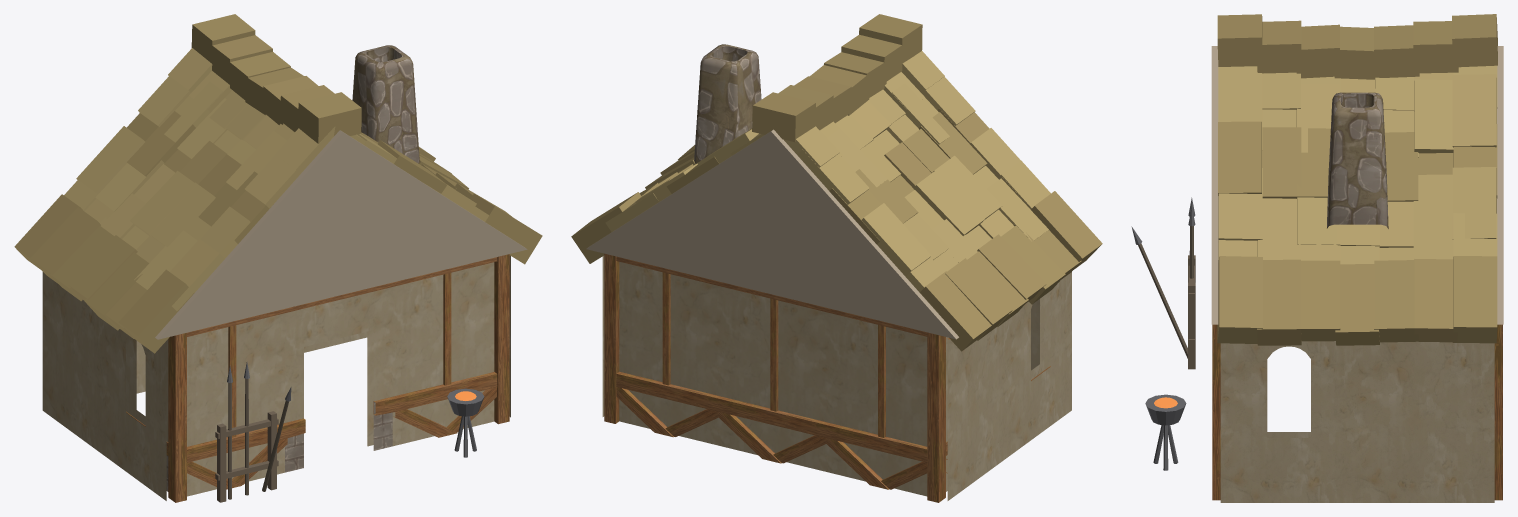
Rendered from town_barracks_t1.glb.
The picture shows the model from 3 angles, left to right: view 1: azimuth 30°, elevation 25°; view 2: azimuth 150°, elevation 25°; view 3: azimuth 270°, elevation 25°; orthographic projection. The views are drawn at different scales.
Visible parts, largest first — view 1: hall_t1_thatch, gable, Wall_Plaster_Straight_inst.003, Wall_Plaster_Straight_inst, Wall_Plaster_Door_Flat_inst, Wall_Plaster_Straight_inst.005, Wall_Plaster_Window_Thin_Round_inst, Prop_Chimney2_inst, Corner_Exterior_Wood_inst, Corner_Exterior_Wood_inst.002, rack_post, braz_bowl (+1 smaller); view 2: hall_t1_thatch, gable.001, Wall_Plaster_Straight_inst.002, Wall_Plaster_Straight_inst.004, Wall_Plaster_Straight_inst.001, Wall_Plaster_Straight_inst.005, Wall_Plaster_Window_Thin_Round_inst, Prop_Chimney2_inst, Corner_Exterior_Wood_inst.001, Corner_Exterior_Wood_inst.003, Wall_Plaster_Straight_inst; view 3: hall_t1_thatch, Wall_Plaster_Straight_inst.006, Wall_Plaster_Window_Thin_Round_inst.001, Prop_Chimney2_inst, gable, gable.001, Corner_Exterior_Wood_inst.003, Corner_Exterior_Wood_inst.002, braz_bowl, rack_post.001, spear_shaft.002.
Part boxes in pixels (box(x1,y1,x2,y2)): hall_t1_thatch: box(14, 14, 542, 353); gable: box(155, 130, 527, 339); Wall_Plaster_Straight_inst.003: box(392, 257, 497, 446); Wall_Plaster_Straight_inst: box(187, 308, 287, 496); Wall_Plaster_Door_Flat_inst: box(285, 282, 395, 472); Wall_Plaster_Straight_inst.005: box(42, 272, 104, 455); Wall_Plaster_Window_Thin_Round_inst: box(104, 321, 168, 500); Prop_Chimney2_inst: box(352, 45, 419, 163); Corner_Exterior_Wood_inst: box(168, 333, 186, 502); Corner_Exterior_Wood_inst.002: box(494, 254, 509, 424); rack_post: box(217, 423, 226, 502); braz_bowl: box(447, 388, 484, 416); hall_t1_thatch: box(571, 14, 1102, 351); gable.001: box(586, 129, 958, 339); Wall_Plaster_Straight_inst.002: box(718, 281, 828, 472); Wall_Plaster_Straight_inst.004: box(616, 256, 721, 445); Wall_Plaster_Straight_inst.001: box(826, 307, 927, 496); Wall_Plaster_Straight_inst.005: box(946, 318, 1009, 500); Wall_Plaster_Window_Thin_Round_inst: box(1009, 272, 1071, 455); Prop_Chimney2_inst: box(694, 44, 761, 164); Corner_Exterior_Wood_inst.001: box(927, 332, 945, 502); Corner_Exterior_Wood_inst.003: box(604, 253, 619, 423); Wall_Plaster_Straight_inst: box(1031, 299, 1039, 370); hall_t1_thatch: box(1217, 14, 1497, 345); Wall_Plaster_Straight_inst.006: box(1357, 341, 1494, 502); Wall_Plaster_Window_Thin_Round_inst.001: box(1220, 341, 1357, 502); Prop_Chimney2_inst: box(1327, 92, 1388, 228); gable: box(1211, 46, 1218, 324); gable.001: box(1497, 46, 1503, 324); Corner_Exterior_Wood_inst.003: box(1494, 324, 1502, 500); Corner_Exterior_Wood_inst.002: box(1212, 324, 1220, 500); braz_bowl: box(1145, 394, 1186, 425); rack_post.001: box(1188, 282, 1195, 369); spear_shaft.002: box(1138, 243, 1187, 358).
Bounding box in the file's own units: 7.54 × 6.21 × 5.43.
Materials: 18 (10 with a texture image).
